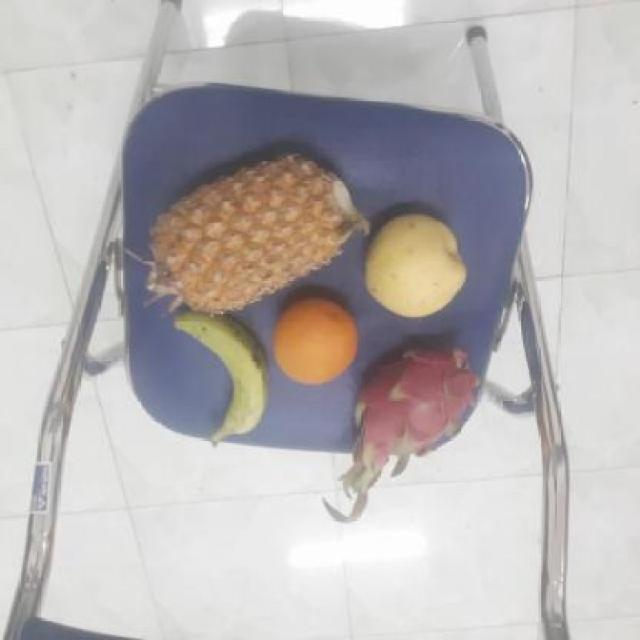banana: (164, 309, 268, 443)
dragon fruit: (344, 340, 478, 463)
oren: (267, 294, 361, 384)
pear: (360, 212, 468, 320)
pineapple: (140, 151, 360, 314)
